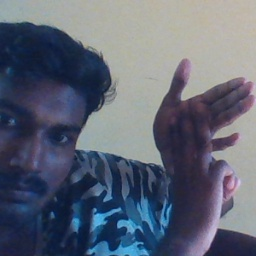M: (150, 56, 255, 217)
